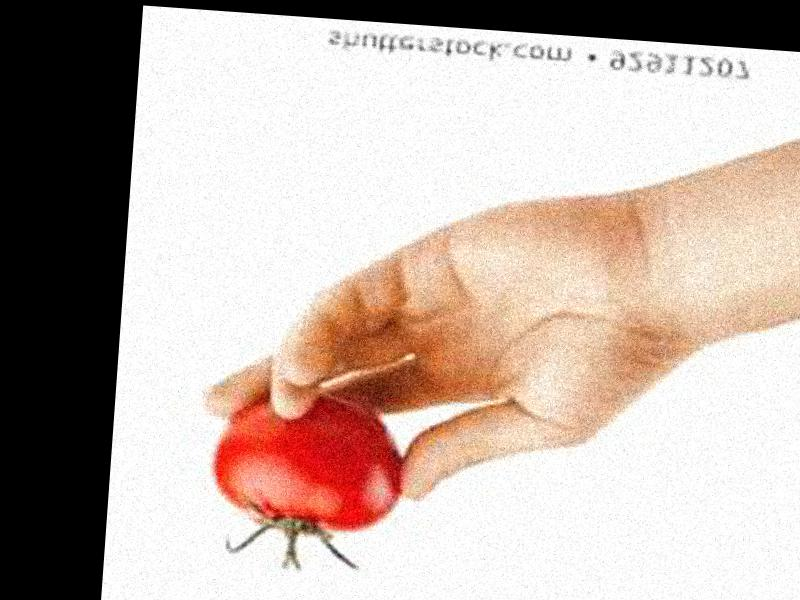Tomato: (208, 384, 409, 536)
